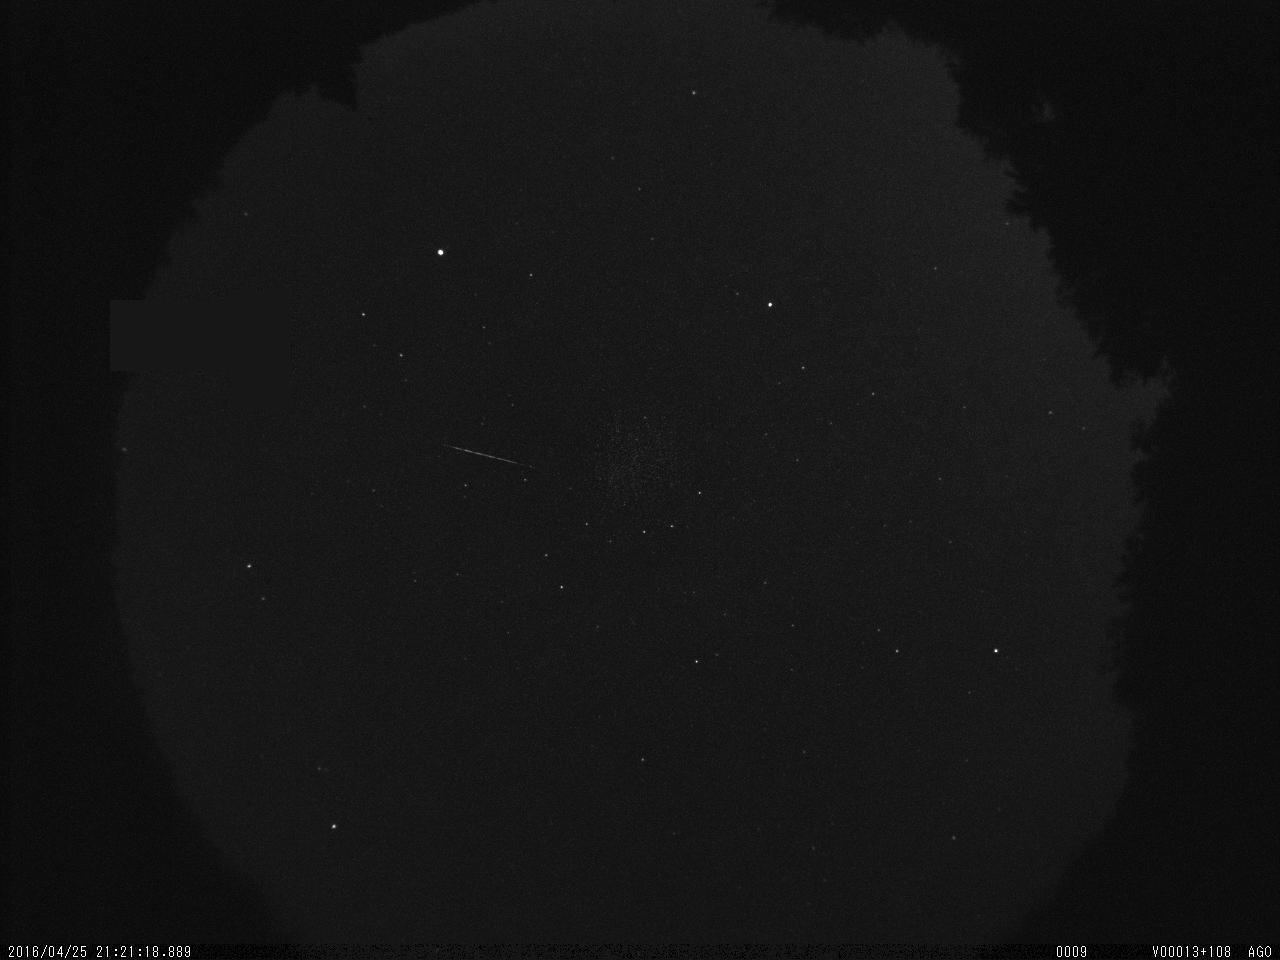meteor: (431, 430, 555, 485)
